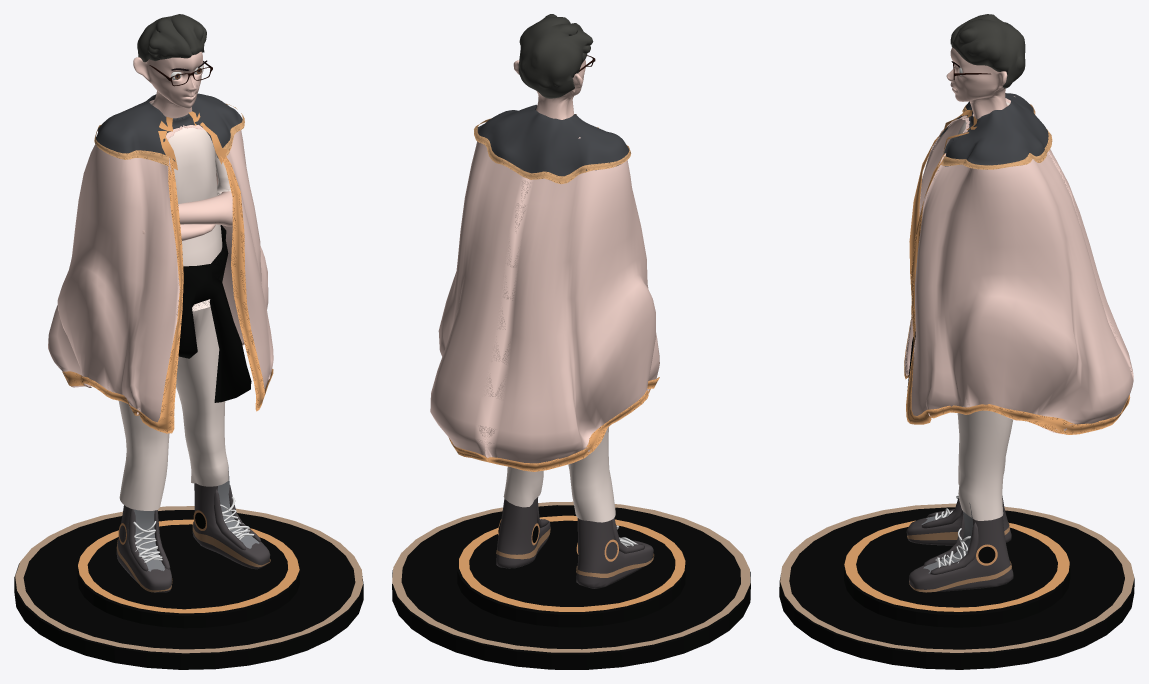
The model's file is justin3d-transformed.glb.
3 renders of one model, left to right at view 1: azimuth 30°, elevation 25°; view 2: azimuth 150°, elevation 25°; view 3: azimuth 270°, elevation 25°, orthographic. The views are drawn at different scales.
Visible parts, largest first — view 1: 3, BézierCurve; view 2: 3; view 3: 3.
Boxes of the visible parts, x1,y1,x2,y2 form: 3: (14,14,363,669); BézierCurve: (133,496,254,563); 3: (392,14,750,669); 3: (779,14,1134,669).
Size of the model in its own units: 1.06 by 1.9 by 1.06.
Materials: 4 (4 with a texture image).
